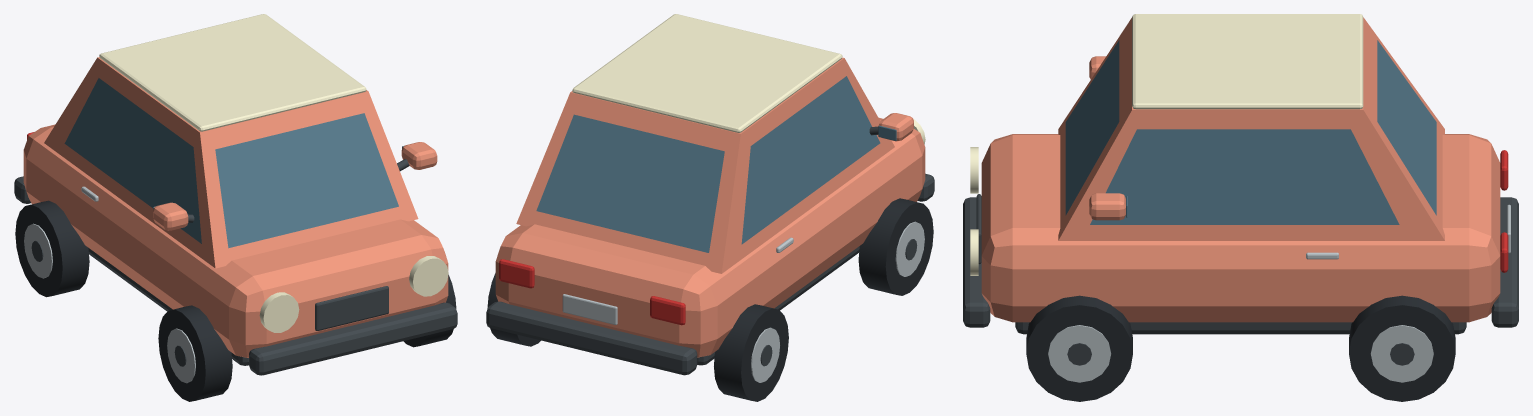
The model's file is car_microcar.glb.
The picture shows the model from 3 angles, left to right: view 1: azimuth 30°, elevation 25°; view 2: azimuth 150°, elevation 25°; view 3: azimuth 270°, elevation 25°; orthographic projection. The views are drawn at different scales.
Parts seen in each view (by area): view 1: Main body, Contrasting roof, Tiny city car windshield, Tiny city car cabin shell, Tiny city car left window 1, Front bumper, Left front wheel tire, Left rear wheel tire, Front grille, Round headlamp.001, Round headlamp, Left front wheel rim (+5 smaller); view 2: Main body, Contrasting roof, Tiny city car rear glass, Tiny city car cabin shell, Tiny city car left window 1, Rear bumper, Left front wheel tire, Left rear wheel tire, Rear blank license plate, Left front wheel rim, Left rear wheel rim, Rear tail lamp (+4 smaller); view 3: Main body, Tiny city car right window 1, Contrasting roof, Tiny city car cabin shell, Right front wheel tire, Right rear wheel tire, Tiny city car rear glass, Tiny city car windshield, Underbody, Right front wheel rim, Right rear wheel rim, Rear bumper (+2 smaller).
Part boxes in pixels (<box>): Main body: <box>23,124,448,357</box>; Contrasting roof: <box>99,14,366,131</box>; Tiny city car windshield: <box>215,113,398,248</box>; Tiny city car cabin shell: <box>44,57,418,268</box>; Tiny city car left window 1: <box>64,78,201,243</box>; Front bumper: <box>249,302,457,375</box>; Left front wheel tire: <box>158,305,232,401</box>; Left rear wheel tire: <box>15,200,89,297</box>; Front grille: <box>315,286,388,330</box>; Round headlamp.001: <box>409,256,448,296</box>; Round headlamp: <box>259,292,299,332</box>; Left front wheel rim: <box>167,328,195,383</box>; Main body: <box>495,118,925,357</box>; Contrasting roof: <box>572,14,842,132</box>; Tiny city car rear glass: <box>536,114,724,252</box>; Tiny city car cabin shell: <box>516,57,894,273</box>; Tiny city car left window 1: <box>741,76,880,244</box>; Rear bumper: <box>486,301,697,375</box>; Left front wheel tire: <box>858,198,933,295</box>; Left rear wheel tire: <box>714,304,788,401</box>; Rear blank license plate: <box>562,294,617,324</box>; Left front wheel rim: <box>895,221,924,276</box>; Left rear wheel rim: <box>751,327,779,382</box>; Rear tail lamp: <box>650,296,685,325</box>; Main body: <box>981,134,1500,322</box>; Tiny city car right window 1: <box>1090,129,1399,224</box>; Contrasting roof: <box>1132,14,1363,109</box>; Tiny city car cabin shell: <box>1058,17,1444,240</box>; Right front wheel tire: <box>1026,295,1132,401</box>; Right rear wheel tire: <box>1349,295,1455,401</box>; Tiny city car rear glass: <box>1377,40,1436,215</box>; Tiny city car windshield: <box>1065,40,1119,215</box>; Underbody: <box>1015,322,1466,334</box>; Right front wheel rim: <box>1048,325,1111,382</box>; Right rear wheel rim: <box>1370,325,1433,382</box>; Rear bumper: <box>1491,197,1518,327</box>.
Size of the model in its own units: 1.83 by 1.56 by 2.86.
